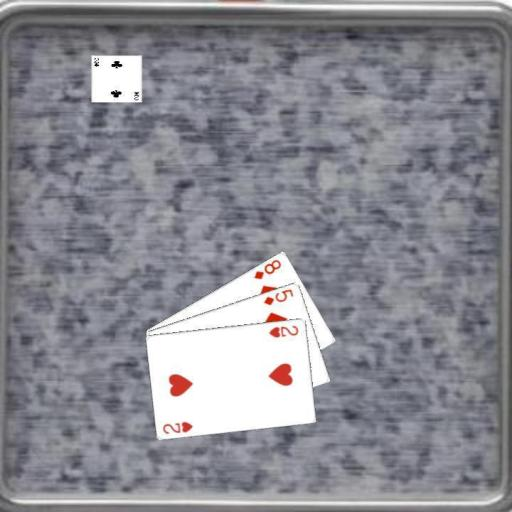card-corner: (251, 256, 282, 281), (261, 285, 295, 307), (160, 418, 195, 435), (266, 322, 300, 339)
